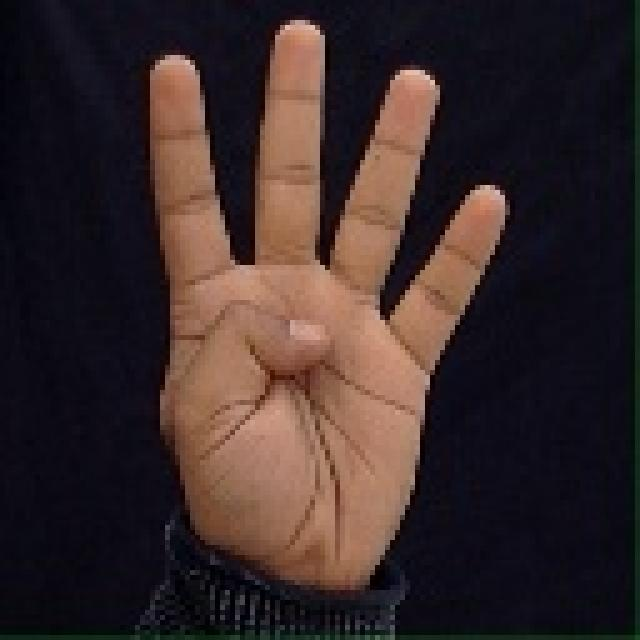Numeric-4: (141, 21, 511, 589)
